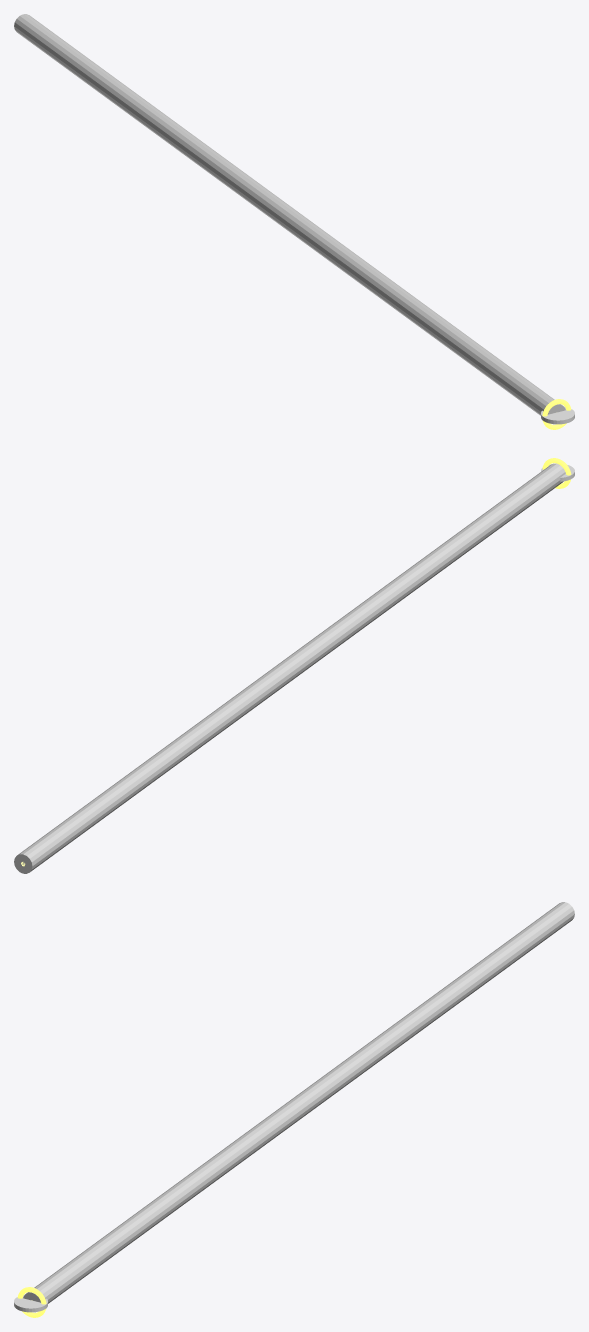
Rendered from Laser.fbx.
3 renders of one model, top to bottom at view 1: azimuth 30°, elevation 25°; view 2: azimuth 150°, elevation 25°; view 3: azimuth 330°, elevation 25°, orthographic.
Parts seen in each view (by area): view 1: LaserGlow; view 2: LaserGlow; view 3: LaserGlow.
Boxes of the visible parts, box(x1,y1,x2,y2) form: LaserGlow: box(14, 14, 565, 415); LaserGlow: box(14, 463, 565, 873); LaserGlow: box(23, 902, 574, 1303).
Bounding box in the file's own units: 0.16 × 0.154 × 5.09.
